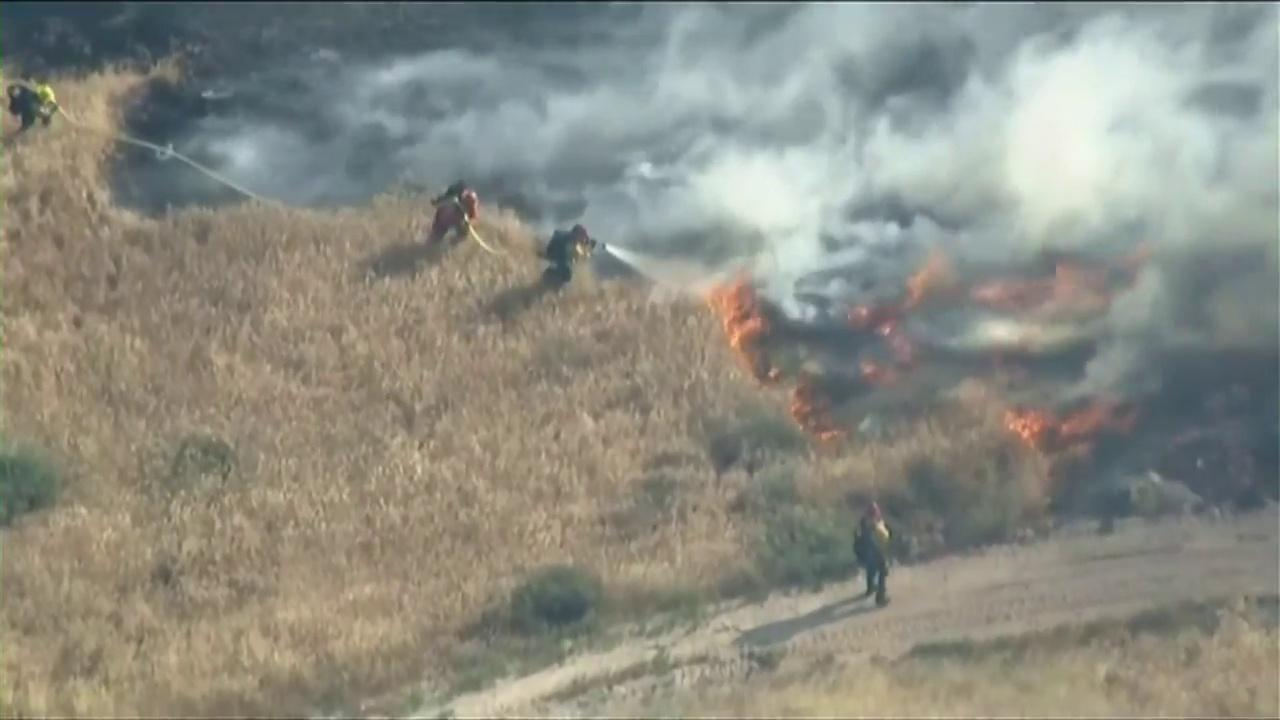smoke: (812, 68, 1220, 240)
